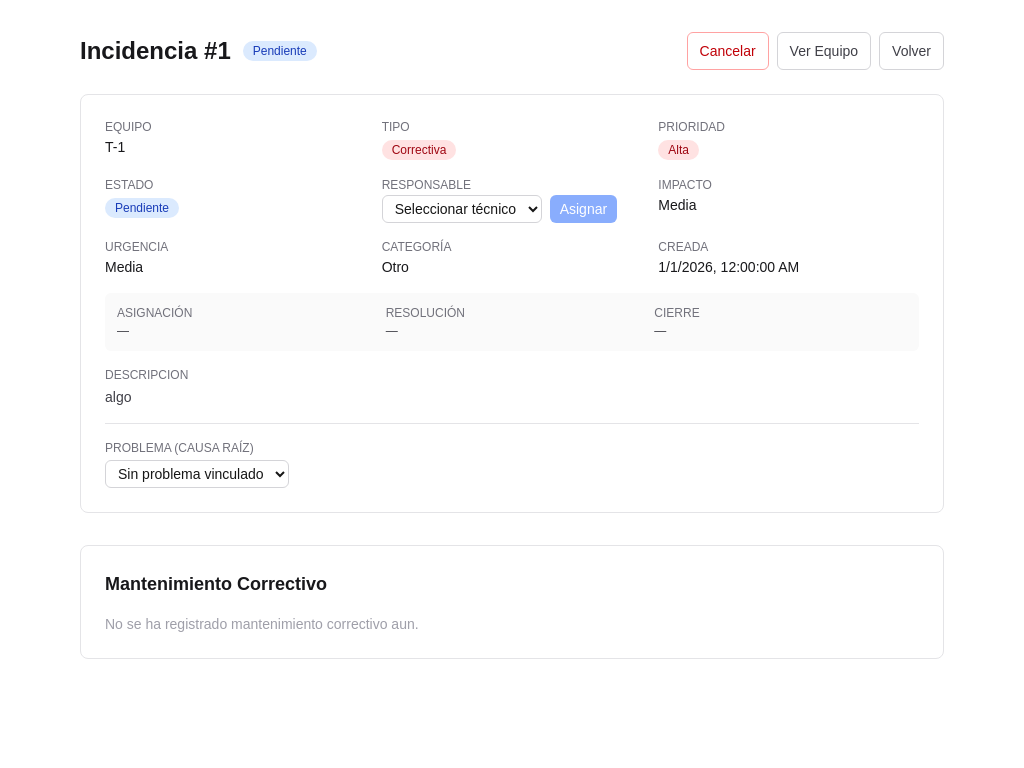
Test: IncidenciaDetailPage › surfaces an error message when asignar fails
expect the heading "Incidencia #1" is shown: met, box [80,35,231,67]
Select "Tec Uno" in the dropdown below "Responsable" at (462, 209), box [382,195,542,223]
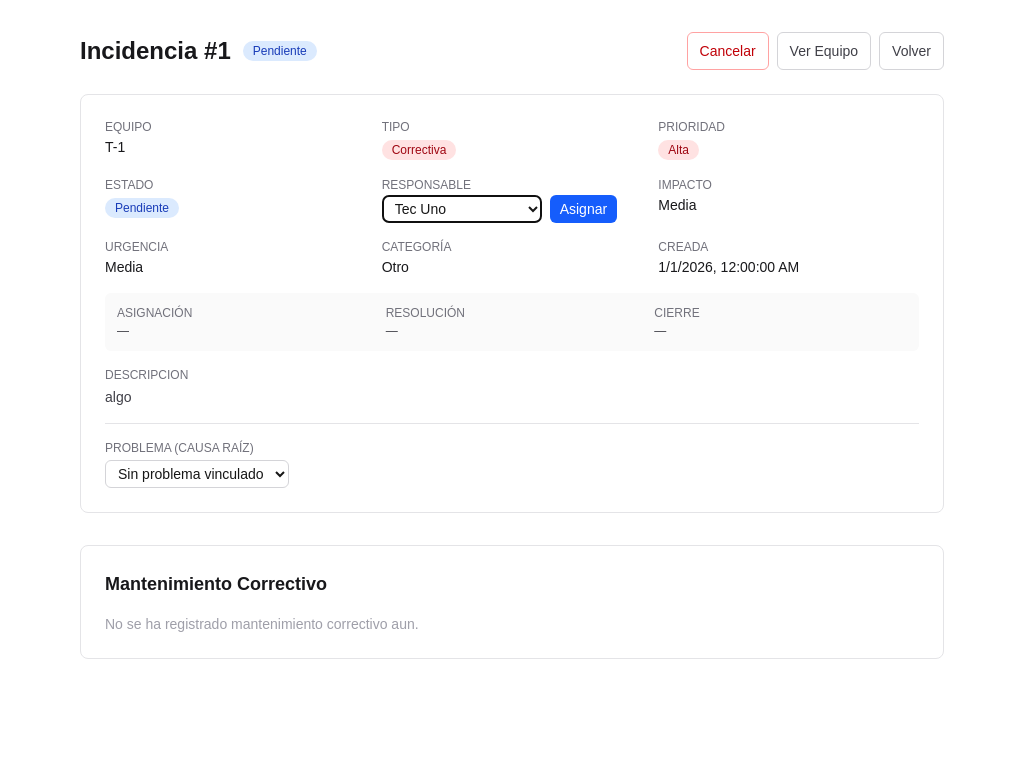
Click the button "Asignar" at (583, 209), box [550,195,617,223]
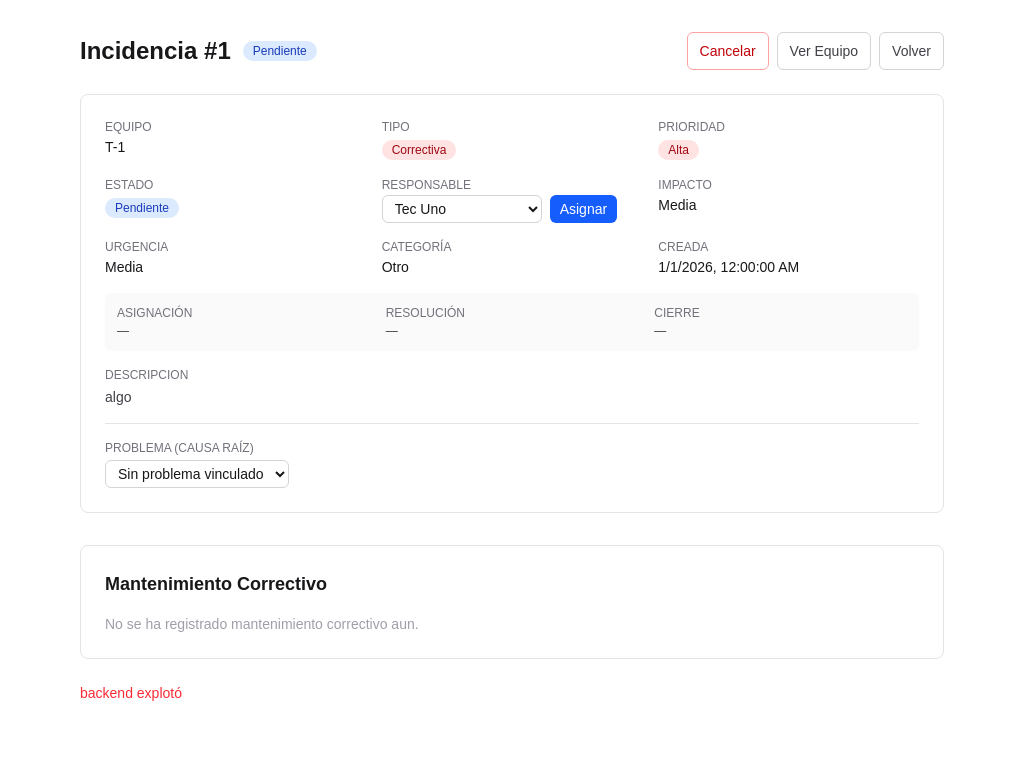
expect the text "backend explotó" is shown: met, box [80,683,182,703]
